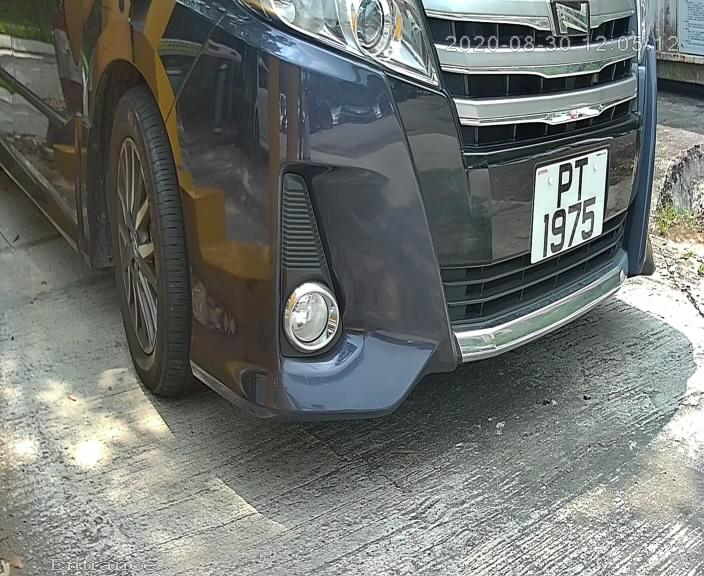License Plate: (522, 139, 613, 278)
